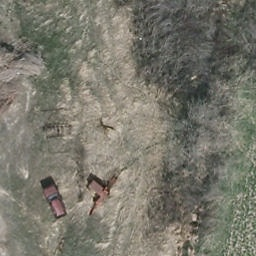car: (41, 183, 68, 219)
